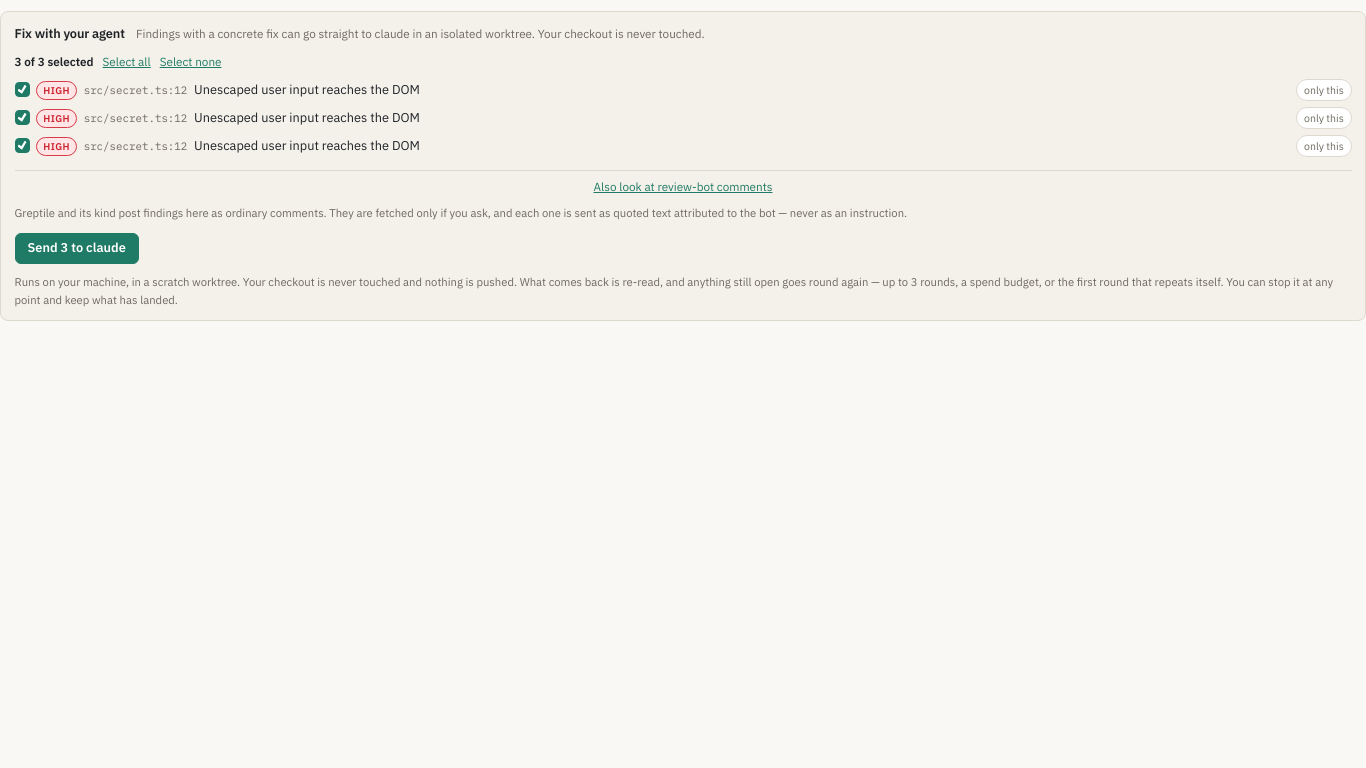
Test: the bounded loop › goes round again while findings stay open, and stops at the round cap
Click the button with test id "agent-fix-send": (77,248) [14,233,139,264]
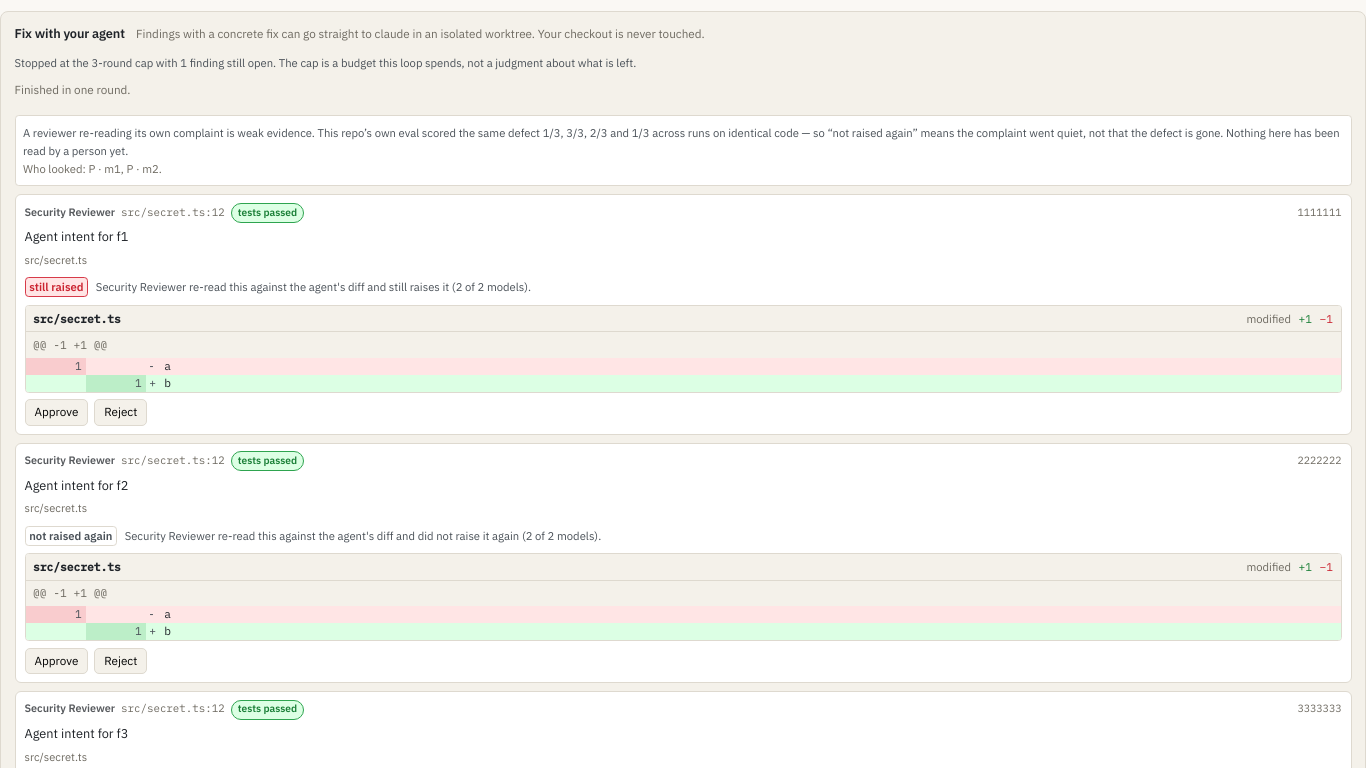
Now the text with test id "agent-fix-loop-stop" shows "budget this loop spends", box [14,55,636,70]
